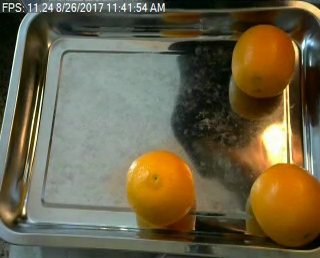Orange: (248, 164, 319, 246), (126, 150, 195, 223), (231, 23, 297, 99)
